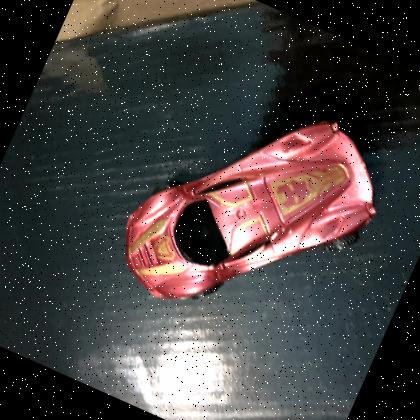Car: (100, 59, 405, 368)
